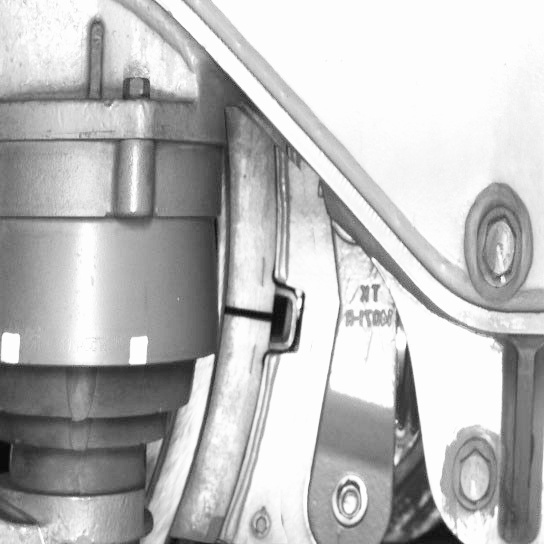ClosedKnifeSwitch: (154, 139, 274, 542)
